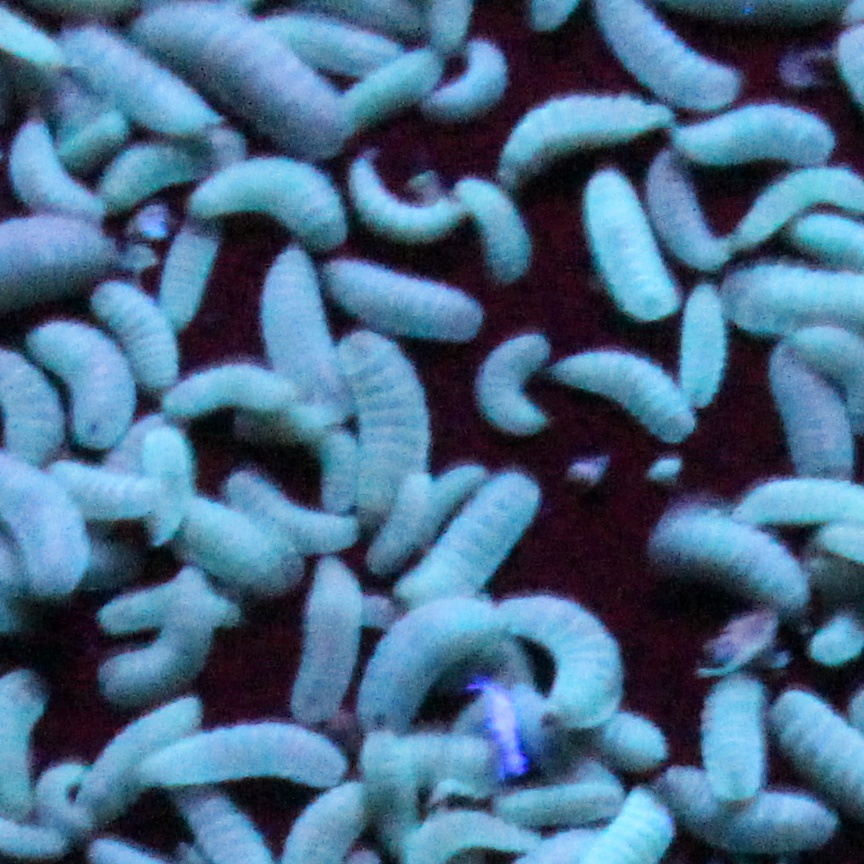larve: (123, 18, 356, 156), (40, 30, 222, 135), (325, 336, 432, 512), (487, 602, 625, 729), (652, 762, 844, 852), (414, 477, 540, 604), (264, 250, 356, 412), (652, 503, 805, 599), (594, 4, 746, 97), (278, 561, 359, 735), (88, 699, 198, 827), (352, 606, 484, 712), (360, 461, 481, 573), (188, 158, 349, 242), (578, 163, 668, 311), (140, 716, 349, 778), (32, 319, 129, 447), (648, 160, 742, 289), (498, 98, 671, 168), (548, 352, 695, 434), (106, 584, 221, 688), (771, 338, 860, 468), (159, 494, 284, 577), (326, 267, 471, 333), (85, 281, 177, 384), (228, 478, 352, 543), (671, 109, 842, 156), (160, 361, 297, 419), (39, 458, 163, 522), (478, 333, 552, 437), (444, 182, 526, 275), (343, 158, 443, 232), (353, 735, 419, 847), (260, 19, 390, 74), (706, 677, 760, 808), (583, 704, 668, 780), (675, 283, 720, 411), (102, 137, 190, 202), (480, 780, 625, 819), (347, 54, 429, 119), (94, 585, 244, 620), (161, 225, 215, 322), (142, 430, 181, 546), (432, 42, 494, 109)
